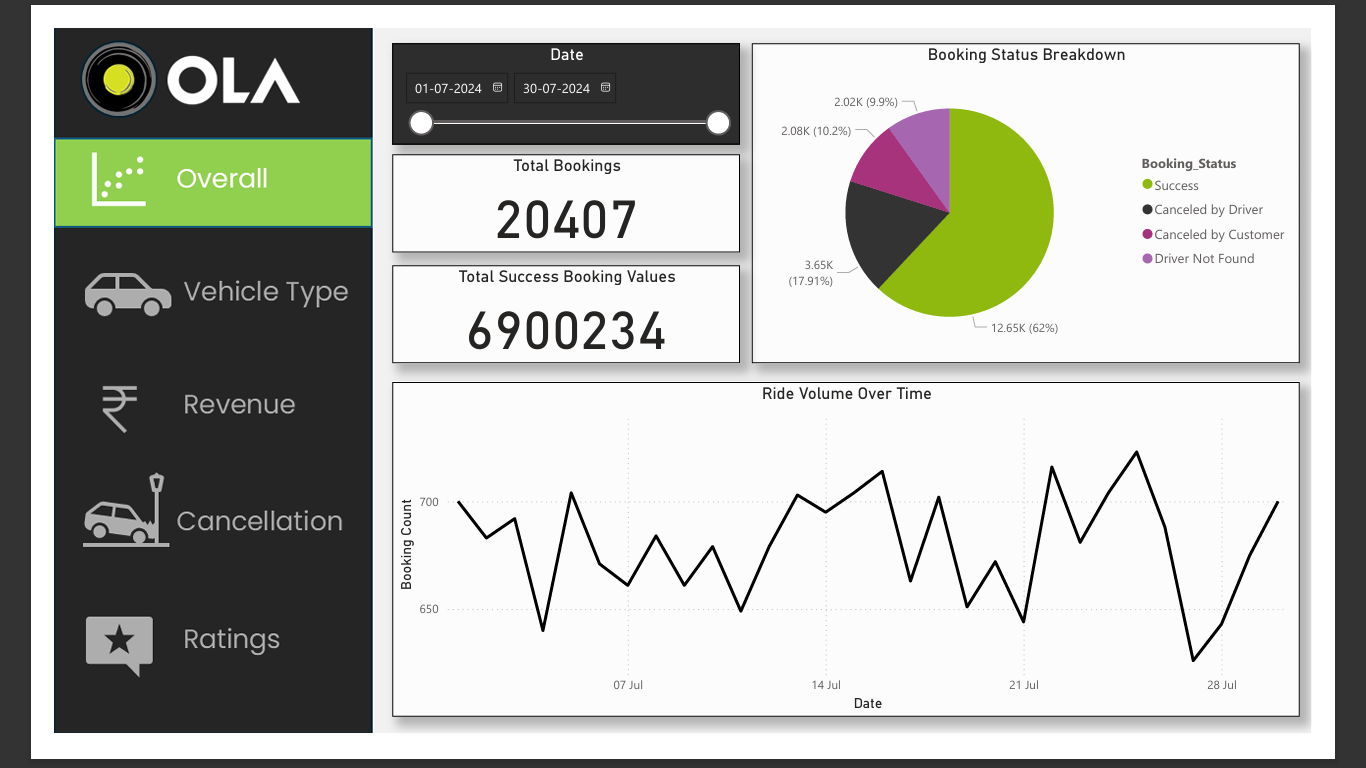

Layout of this report page (visuals, bound fields, positions):
{"tool":"powerbi","page":{"name":"Overall","canvas":[1280,720],"ordinal":0},"visuals":[{"type":"actionButton","box":[0,221.4,324.3,91.4],"z":0},{"type":"actionButton","box":[0,334.3,324.3,91.4],"z":1000},{"type":"actionButton","box":[0,442.3,324.7,107.3],"z":2000},{"type":"actionButton","box":[0,570.1,324.7,107.3],"z":3000},{"type":"lineChart","title":"Ride Volume Over Time","fields":{"Category":["Ola BookingsData.Date"],"Y":["CountNonNull(Ola BookingsData.Booking_ID)"]},"box":[343.8,360,924.2,340.9],"z":4000},{"type":"pieChart","title":"Booking Status Breakdown","fields":{"Category":["Ola BookingsData.Booking_Status"],"Y":["CountNonNull(Ola BookingsData.Booking_ID)"]},"box":[709.7,14.7,558.4,326.2],"z":5000},{"type":"slicer","title":"Date","fields":{"Values":["Ola BookingsData.Date"]},"box":[343.8,14.7,354.1,102.9],"z":6000},{"type":"card","title":"Total Bookings","fields":{"Values":["Count(Ola BookingsData.Booking_ID)"]},"box":[343.8,127.8,354.1,99.9],"z":7000},{"type":"card","title":"Total Success  Booking Values","fields":{"Values":["Sum(Ola BookingsData.Booking_Value)"]},"box":[343.8,241,354.1,99.9],"z":8000}]}

Visuals, with their boxes in screenshot pixels (x1, y1, x2, y2), scaled from the page's 1280x720 canvas onto the 1366x768 screenshot:
actionButton: (left=0, top=236, right=346, bottom=334)
actionButton: (left=0, top=357, right=346, bottom=454)
actionButton: (left=0, top=472, right=347, bottom=586)
actionButton: (left=0, top=608, right=347, bottom=723)
"Ride Volume Over Time" lineChart: (left=367, top=384, right=1353, bottom=748)
"Booking Status Breakdown" pieChart: (left=757, top=16, right=1353, bottom=364)
"Date" slicer: (left=367, top=16, right=745, bottom=125)
"Total Bookings" card: (left=367, top=136, right=745, bottom=243)
"Total Success  Booking Values" card: (left=367, top=257, right=745, bottom=364)
